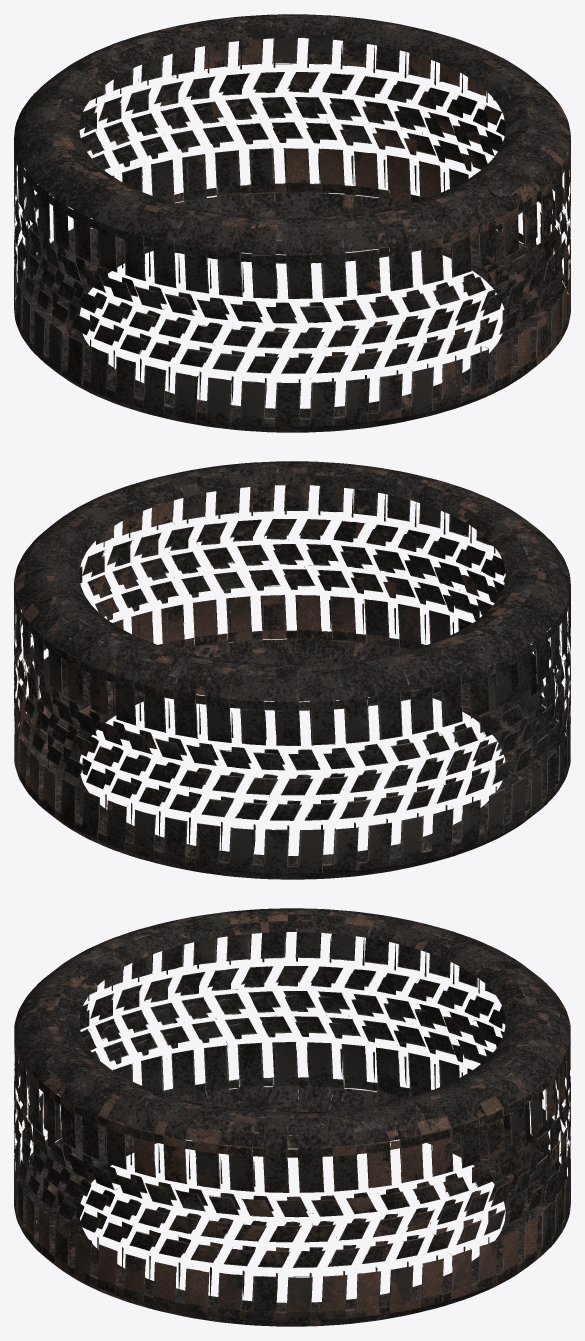
File: tire.dae
The picture shows the model from 3 angles, top to bottom: view 1: azimuth 30°, elevation 25°; view 2: azimuth 150°, elevation 25°; view 3: azimuth 270°, elevation 25°; orthographic projection.
Visible parts, largest first — view 1: tire_base; view 2: tire_base; view 3: tire_base.
Part boxes in pixels (x1=…): tire_base: x1=14, y1=14, x2=570, y2=432; tire_base: x1=14, y1=461, x2=570, y2=879; tire_base: x1=14, y1=908, x2=570, y2=1326.
Size of the model in its own units: 0.2 by 0.0818 by 0.2.
Materials: 1 (1 with a texture image).
